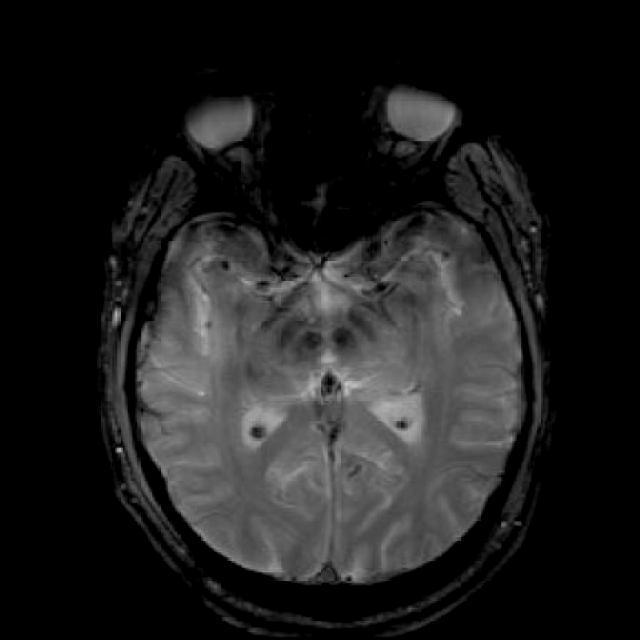MCI: (270, 307, 394, 365)
